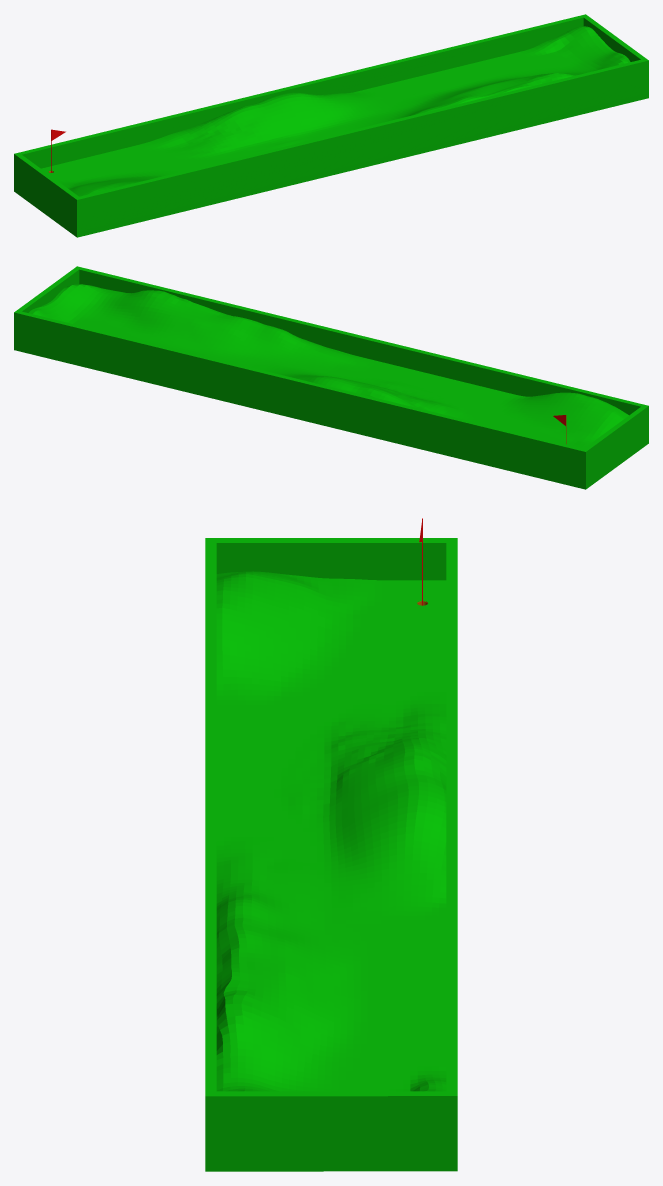
Rendered from level_6.glb.
3 renders of one model, top to bottom at view 1: azimuth 30°, elevation 25°; view 2: azimuth 150°, elevation 25°; view 3: azimuth 270°, elevation 25°, orthographic. The views are drawn at different scales.
Visible parts, largest first — view 1: green; view 2: green; view 3: green.
Part boxes in pixels (x1=…): green: x1=14, y1=14, x2=648, y2=237; green: x1=14, y1=266, x2=648, y2=489; green: x1=205, y1=538, x2=457, y2=1171.
Size of the model in its own units: 11.5 by 1.18 by 2.2.
